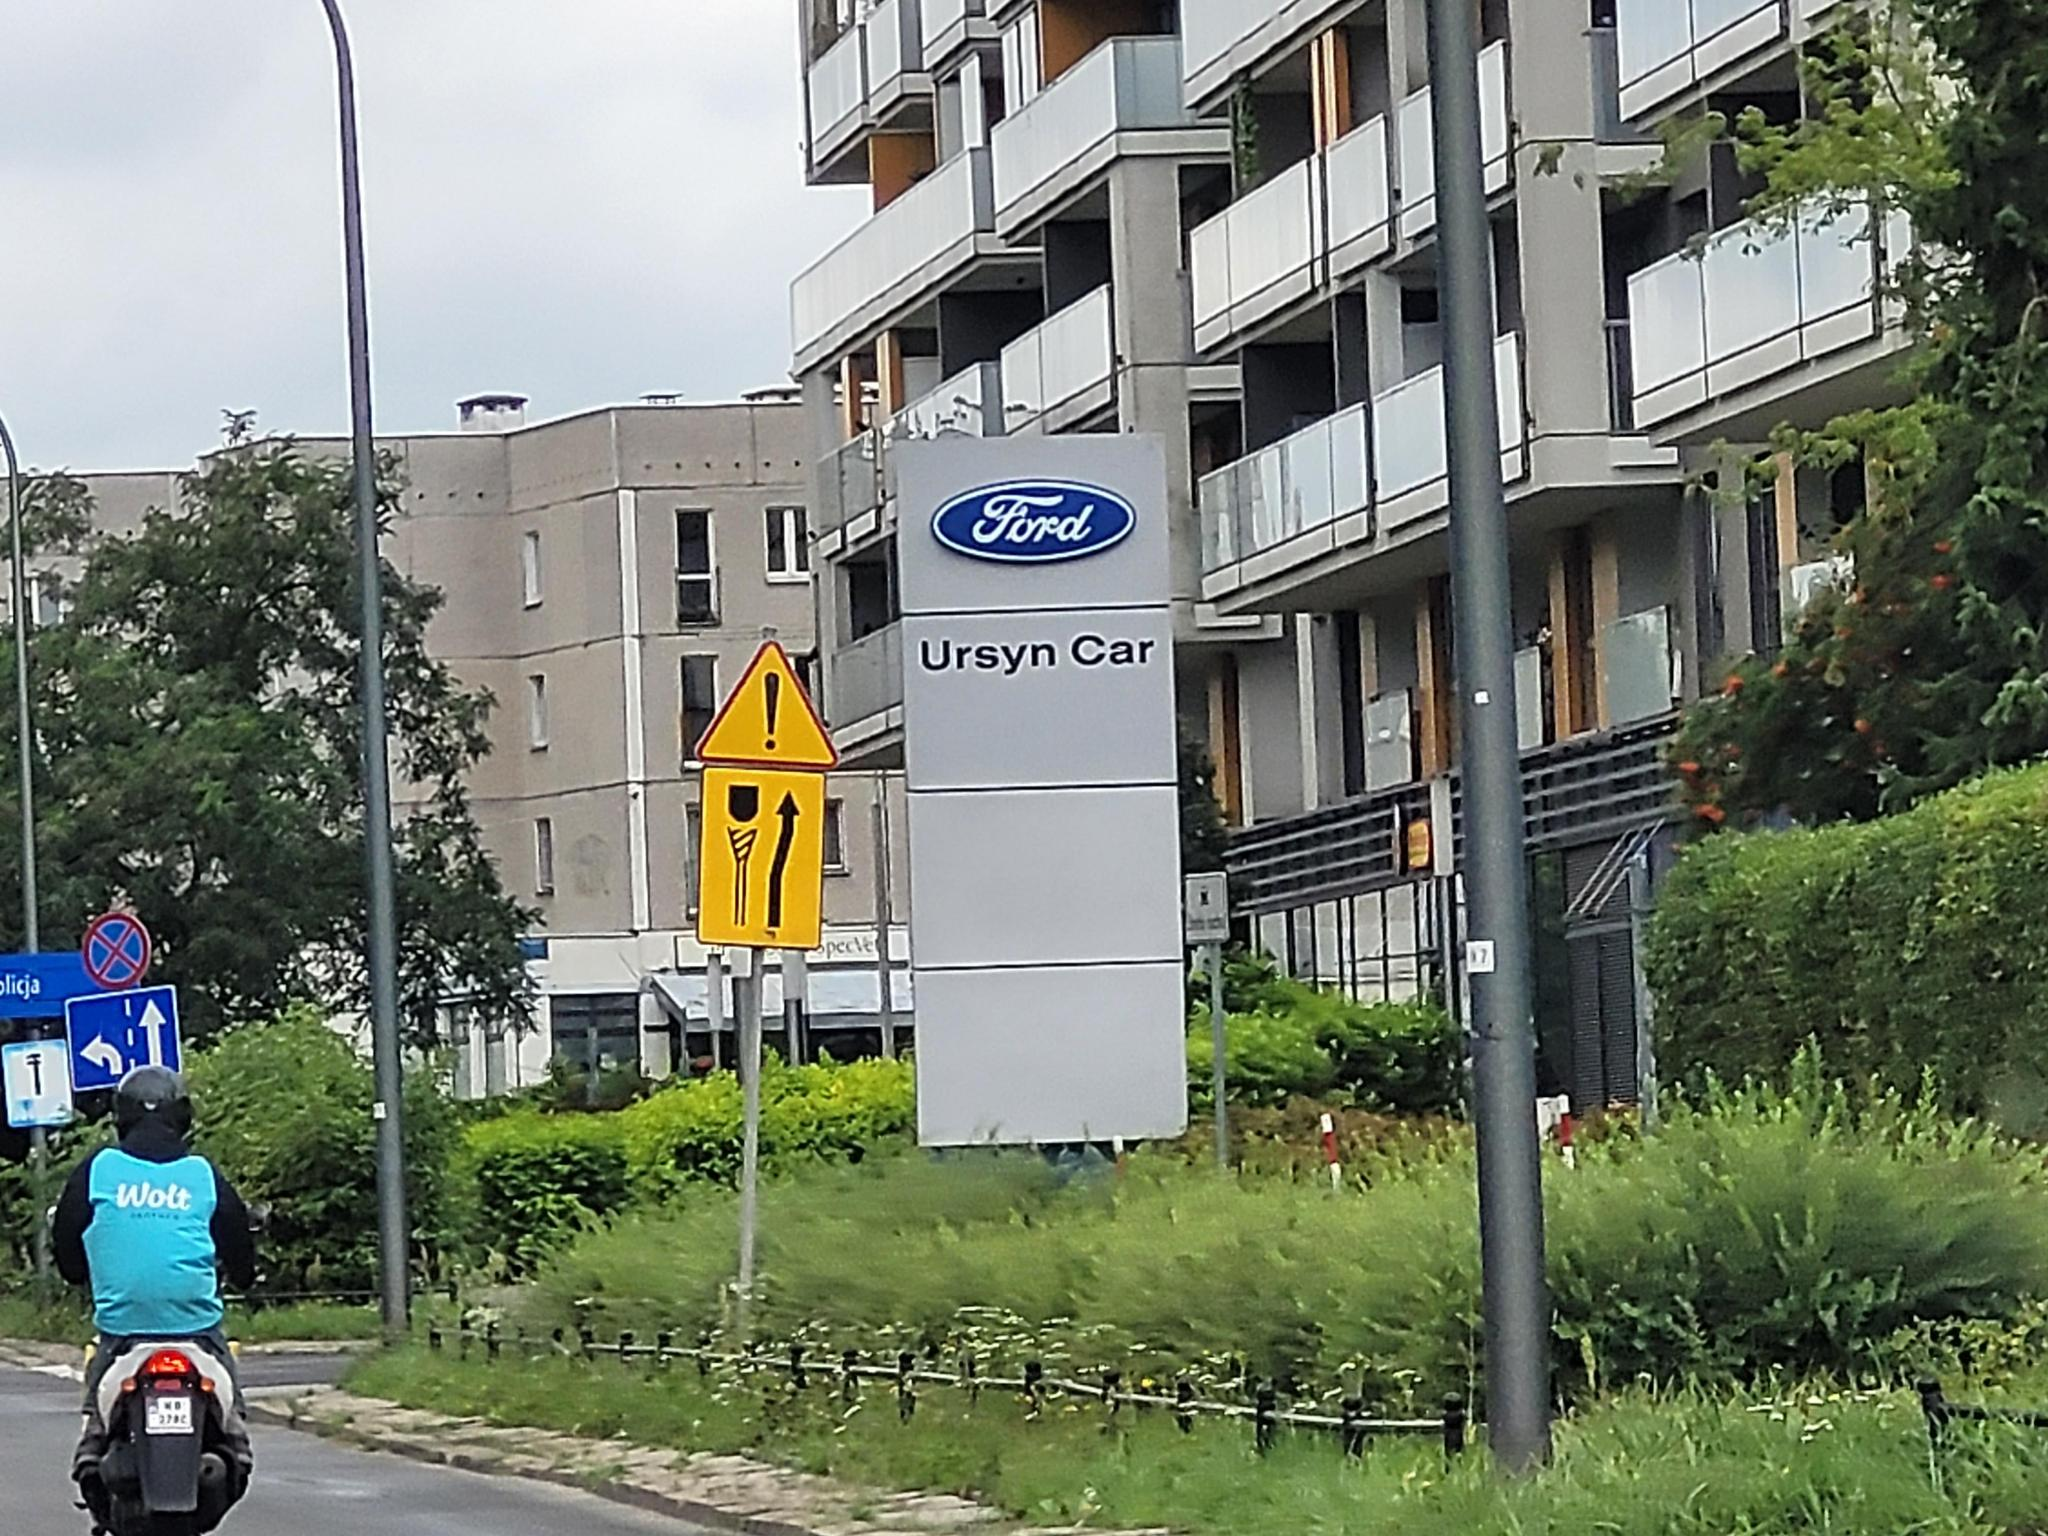other: (698, 766, 822, 945), (69, 1002, 182, 1083)
prohibitory: (79, 912, 153, 992)
warning: (693, 637, 842, 768)
